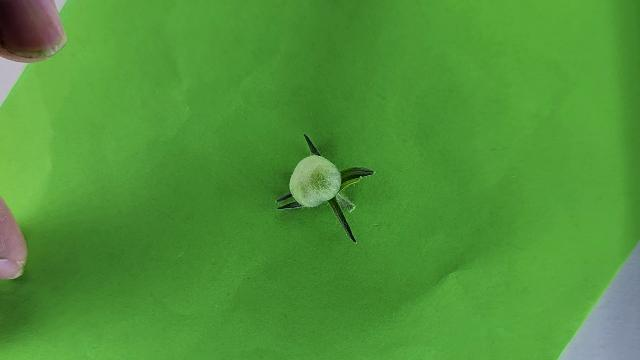Fruit Maturation: (288, 155, 342, 207)
